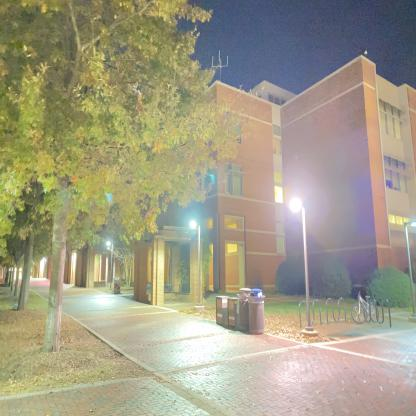eb3: (91, 60, 416, 290)
